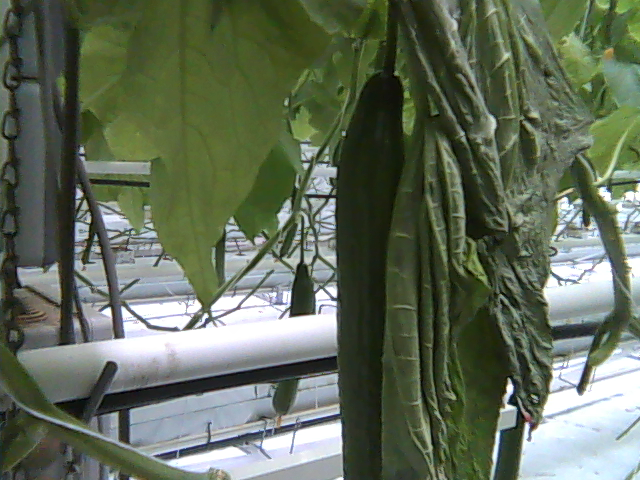concombre: (331, 59, 410, 480)
